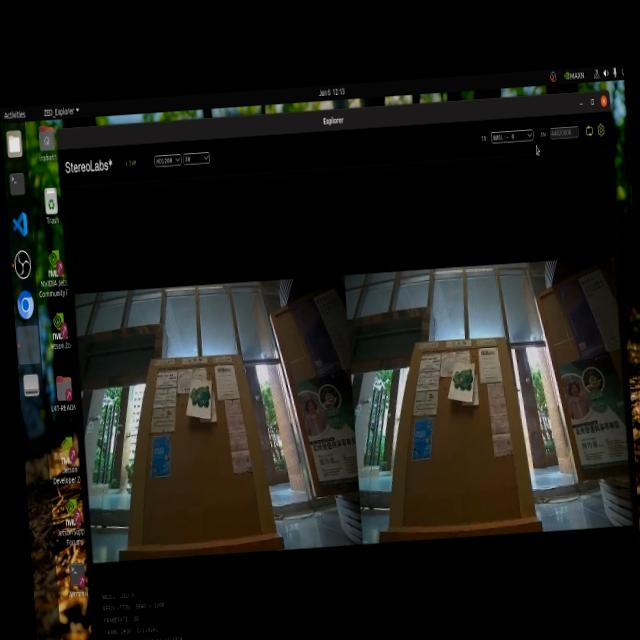green: (449, 369, 497, 410), (181, 386, 211, 414)
